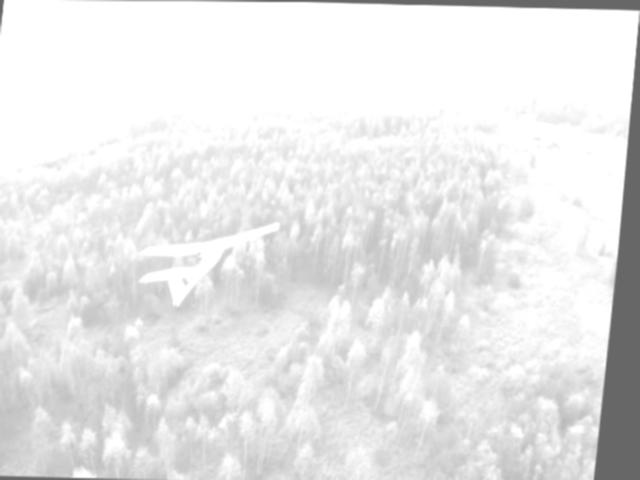hedef: (139, 213, 284, 317)
